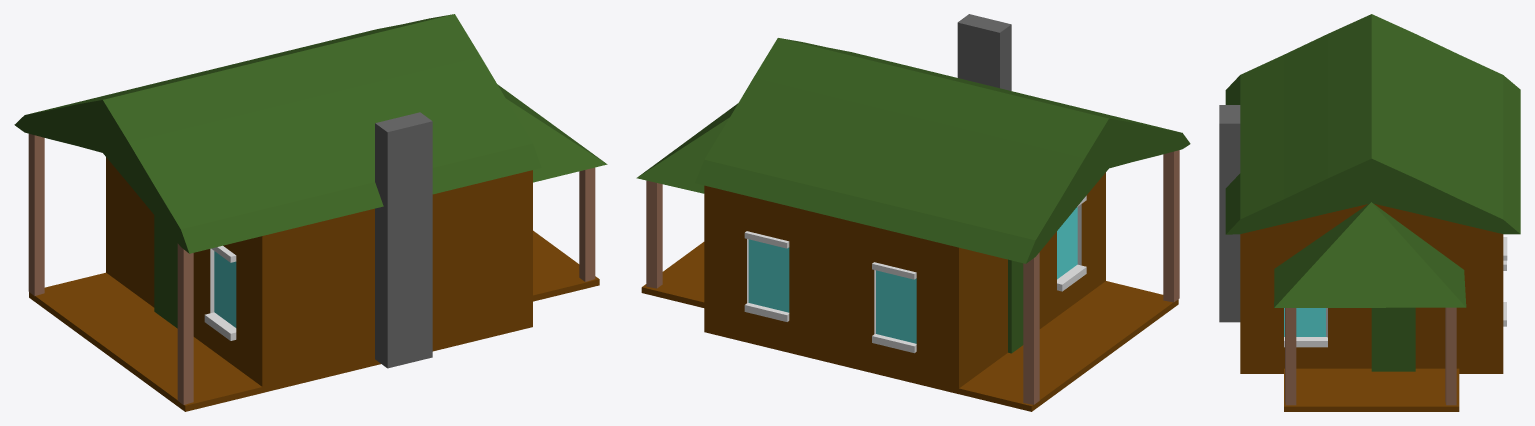
File: house_m2.fbx
The picture shows the model from 3 angles, left to right: view 1: azimuth 30°, elevation 25°; view 2: azimuth 150°, elevation 25°; view 3: azimuth 270°, elevation 25°; orthographic projection. The views are drawn at different scales.
Visible parts, largest first — view 1: Cube.001, Cone, Cylinder.003, Cylinder.002, Cylinder.001; view 2: Cube.001, Cone, Cylinder.002, Cylinder.003, Cylinder; view 3: Cube.001, Cone, Cylinder, Cylinder.001.
Boxes of the visible parts, x1,y1,x2,y2 form: Cube.001: (14,14,599,411); Cone: (497,84,607,182); Cylinder.003: (28,134,44,295); Cylinder.002: (177,243,193,404); Cylinder.001: (579,167,595,281); Cube.001: (641,14,1190,411); Cone: (636,103,737,193); Cylinder.002: (1163,150,1179,302); Cylinder.003: (1023,252,1039,404); Cylinder: (646,180,662,288); Cube.001: (1219,14,1520,411); Cone: (1274,202,1466,307); Cylinder: (1445,307,1456,405); Cylinder.001: (1285,308,1296,405).
Size of the model in its own units: 165 by 90.33 by 115.
